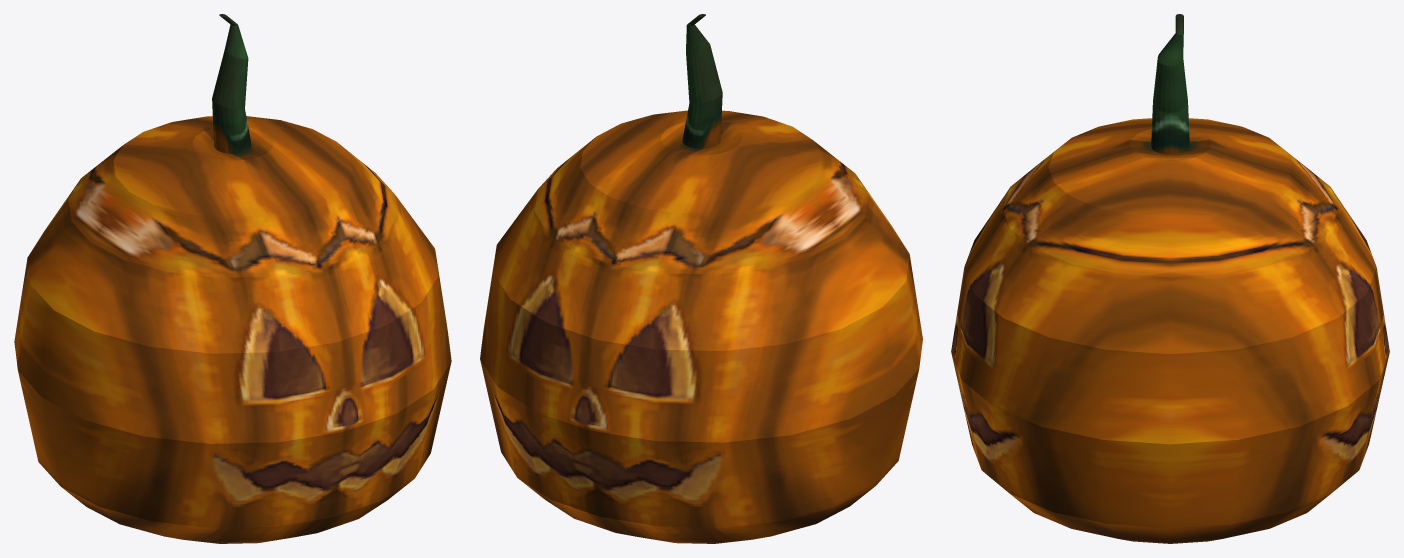
Rendered from Pumpkin.fbx.
3 renders of one model, left to right at view 1: azimuth 30°, elevation 25°; view 2: azimuth 150°, elevation 25°; view 3: azimuth 270°, elevation 25°, orthographic.
Visible parts, largest first — view 1: pSphere1; view 2: pSphere1; view 3: pSphere1.
Part boxes in pixels (x1=…): pSphere1: x1=14, y1=14, x2=451, y2=543; pSphere1: x1=480, y1=14, x2=922, y2=543; pSphere1: x1=951, y1=14, x2=1389, y2=543.
Size of the model in its own units: 1370 by 1696 by 1370.
1 material, 1 textured.
